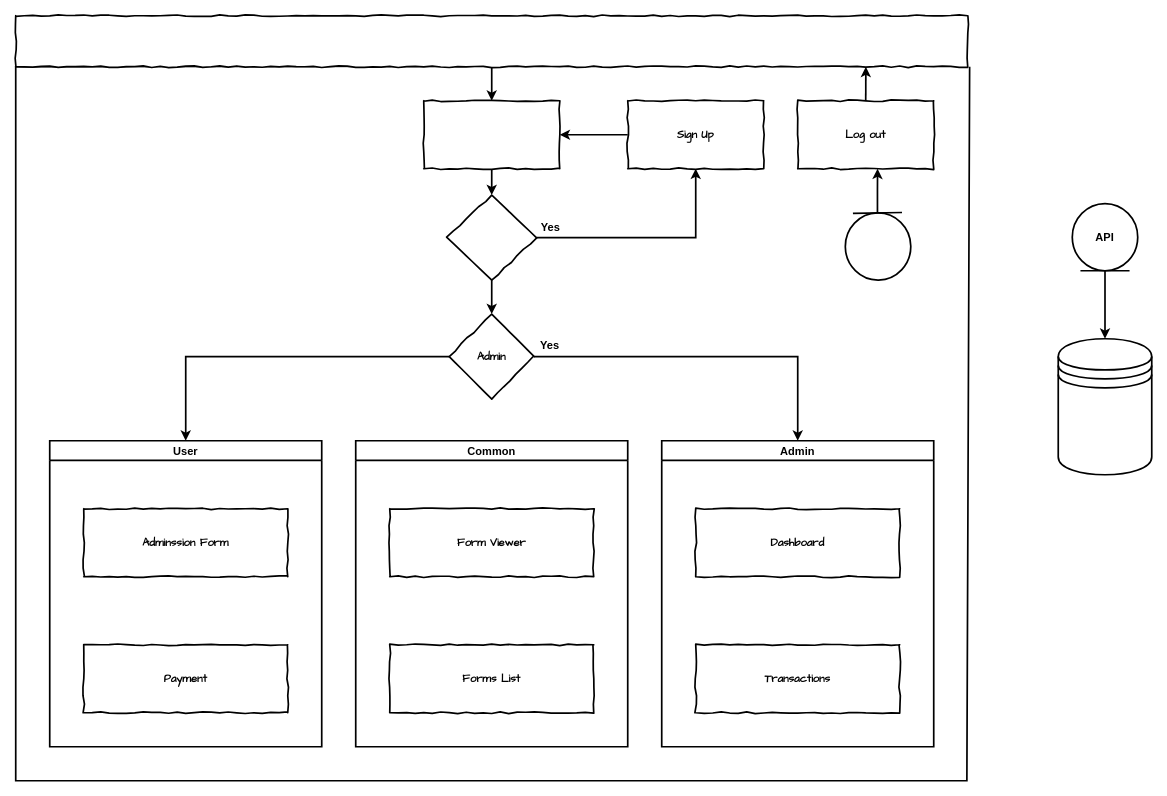
The diagram is 1167 pixels wide and 796 high, and some of its shapes have lost their labels. The shapes that lost their labels are listed below. From the top down, each one's centre as x and y in pixels, then its label:
the point at 491,40: LICET Portal Flow
the point at 491,134: Login Page
the point at 491,237: New User
the point at 877,246: Nav bar
the point at 1104,406: Mongo DB
